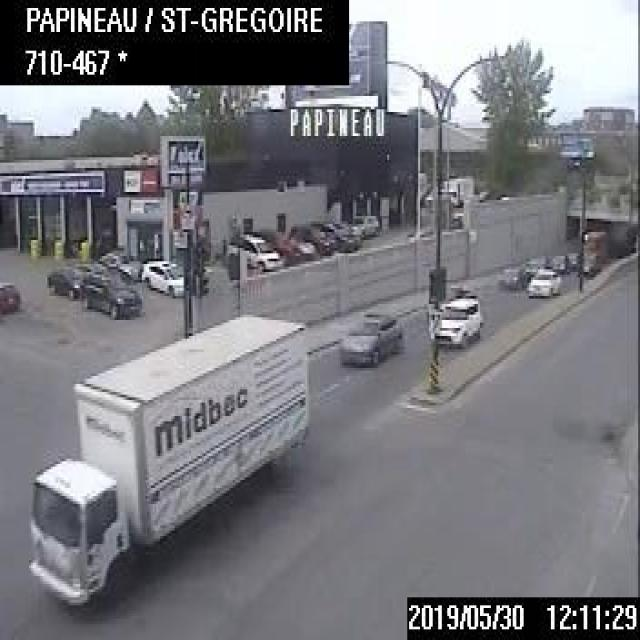vehicle: (22, 309, 309, 600), (338, 307, 402, 365), (82, 268, 144, 316), (430, 288, 480, 347), (228, 229, 282, 270), (140, 256, 183, 294), (288, 223, 333, 255), (318, 218, 360, 252), (578, 228, 609, 274), (45, 265, 86, 299), (98, 248, 140, 278), (276, 232, 315, 264), (438, 172, 473, 206), (525, 264, 559, 298), (497, 263, 528, 290), (0, 280, 20, 315), (352, 213, 380, 238), (523, 253, 550, 276), (550, 252, 569, 271), (564, 250, 578, 268)
